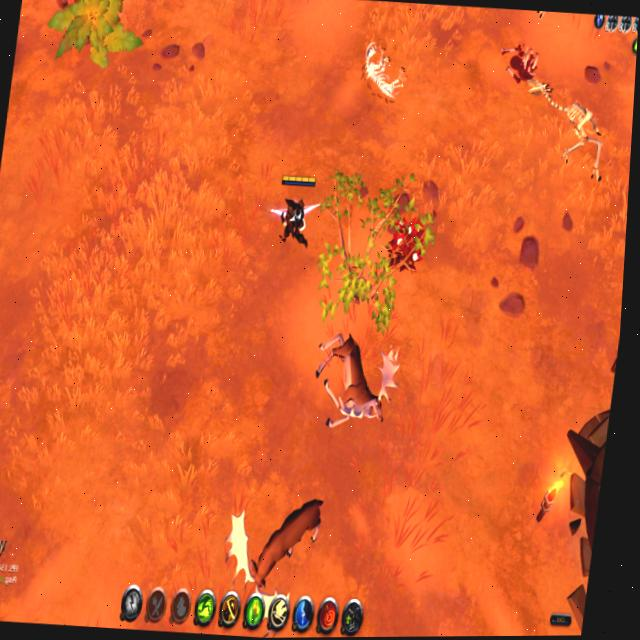hide: (383, 211, 432, 277)
mob: (305, 318, 400, 443)
red: (271, 170, 319, 246)
